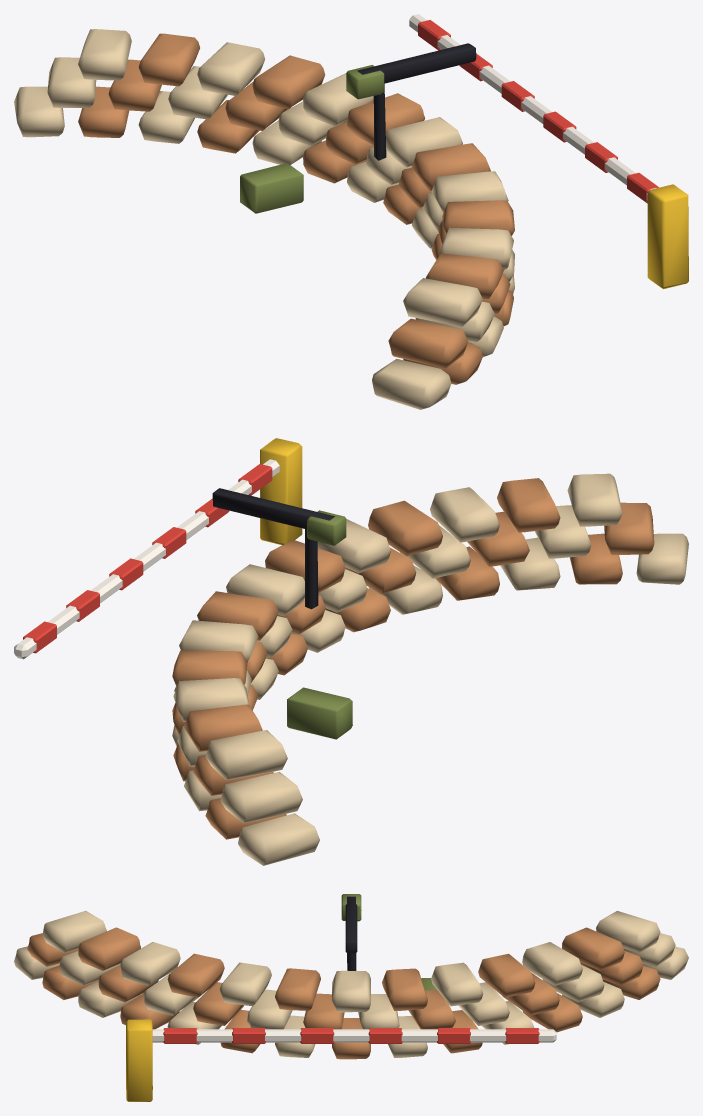
The model's file is sandbags.glb.
3 renders of one model, top to bottom at view 1: azimuth 30°, elevation 25°; view 2: azimuth 150°, elevation 25°; view 3: azimuth 270°, elevation 25°, orthographic. The views are drawn at different scales.
Parts seen in each view (by area): view 1: sandbags; view 2: sandbags; view 3: sandbags.
Part boxes in pixels (<box>): sandbags: <box>14,14,688,409</box>; sandbags: <box>14,438,688,865</box>; sandbags: <box>14,894,688,1101</box>.
Bounding box in the file's own units: 4.95 × 2.1 × 9.87.
Materials: 1 (1 with a texture image).
